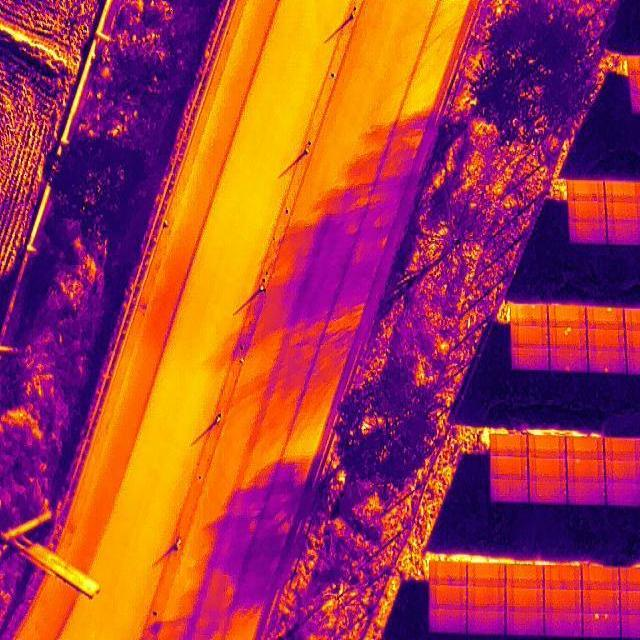Cell: (588, 351, 626, 374), (510, 304, 549, 326), (587, 308, 624, 330), (568, 459, 605, 481), (549, 351, 588, 371)
Cell-Multi: (549, 328, 587, 352), (582, 614, 620, 638)
No-Anomaly: (490, 478, 529, 502), (528, 436, 566, 460), (467, 564, 505, 588), (581, 566, 619, 590), (467, 588, 505, 612), (506, 588, 544, 612), (582, 590, 620, 614), (544, 612, 582, 636), (604, 482, 640, 507), (510, 326, 549, 349), (544, 568, 581, 592), (430, 608, 467, 632), (467, 611, 505, 634), (604, 438, 640, 462), (529, 480, 568, 502), (506, 566, 545, 588), (568, 481, 605, 504), (547, 305, 587, 326), (568, 222, 606, 244), (490, 458, 528, 480), (430, 564, 468, 586), (506, 613, 544, 635), (607, 220, 640, 245), (490, 435, 527, 457), (430, 585, 467, 607), (528, 459, 568, 479), (511, 349, 549, 370), (568, 180, 605, 201), (588, 330, 625, 351), (605, 180, 640, 202), (568, 202, 606, 222), (544, 592, 582, 612), (567, 438, 604, 458), (604, 462, 640, 482), (607, 201, 640, 219)
